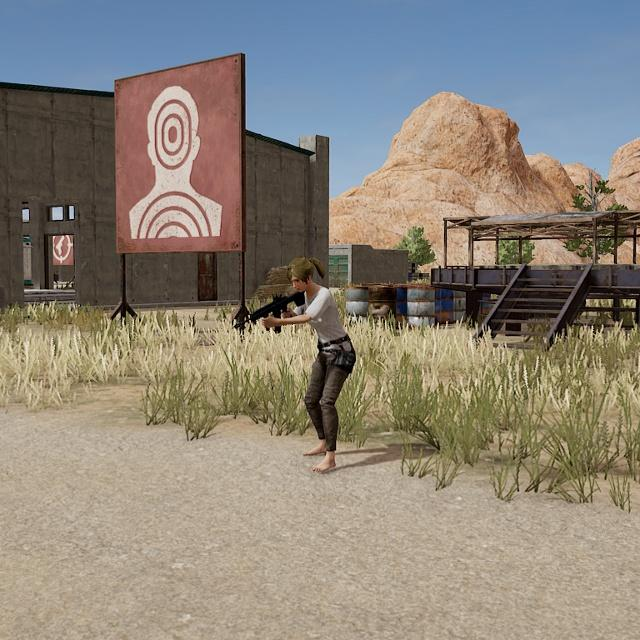head: (286, 257, 316, 296)
people: (279, 254, 361, 475)
